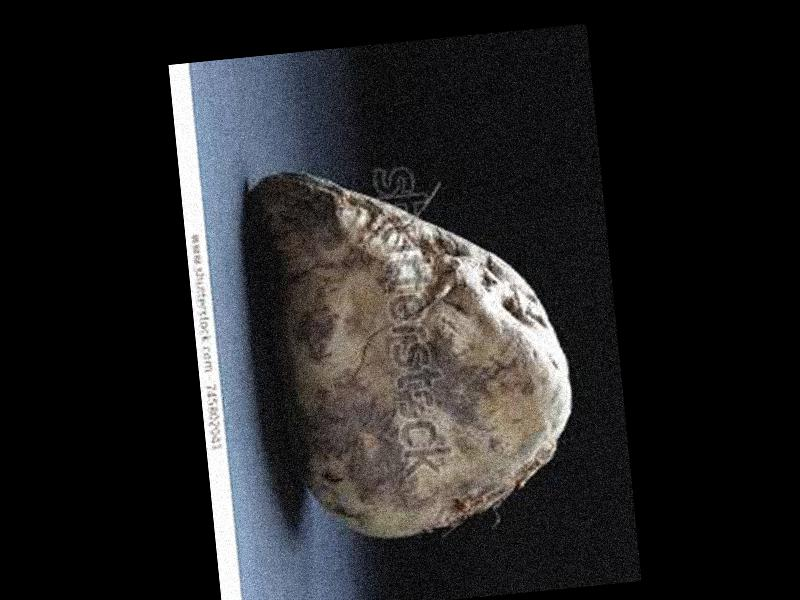Beet: (251, 152, 581, 553)
